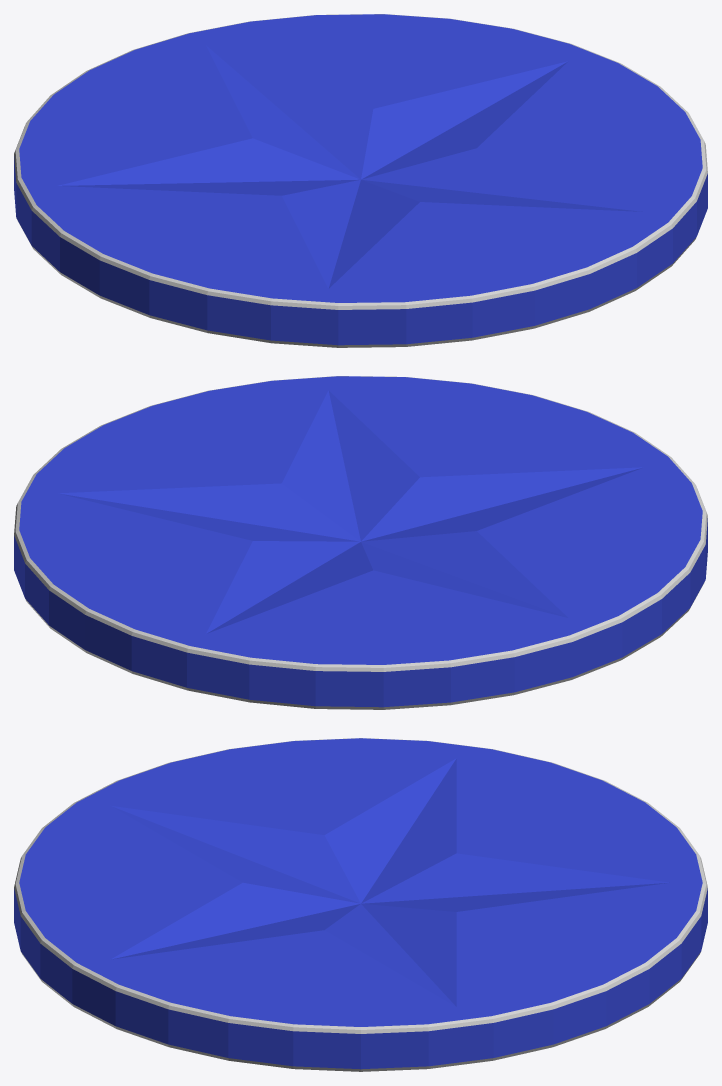
The model's file is coin0.fbx.
The picture shows the model from 3 angles, top to bottom: view 1: azimuth 30°, elevation 25°; view 2: azimuth 150°, elevation 25°; view 3: azimuth 270°, elevation 25°; orthographic projection.
Parts seen in each view (by area): view 1: Cylinder; view 2: Cylinder; view 3: Cylinder.
Boxes of the visible parts, left/top/right/bottom form: Cylinder: left=14, top=14, right=707, bottom=347; Cylinder: left=14, top=376, right=707, bottom=709; Cylinder: left=14, top=738, right=707, bottom=1071.
Size of the model in its own units: 2 by 0.146 by 2.
2 materials, 1 textured.
